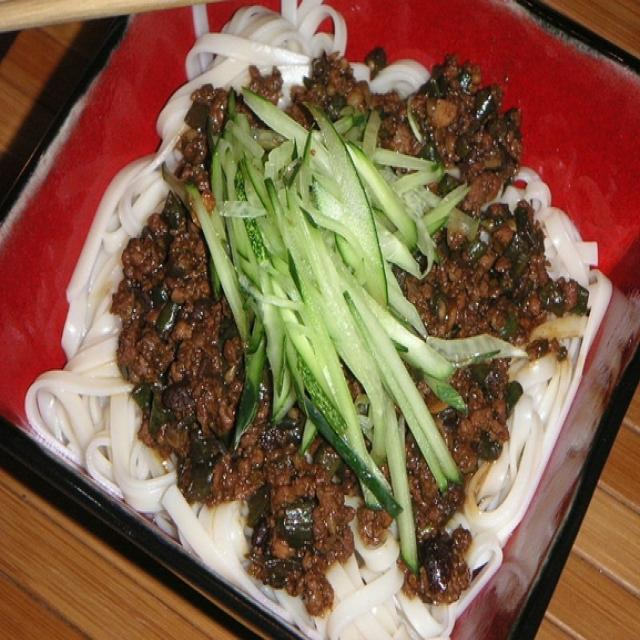面条主食: (33, 34, 606, 618)
